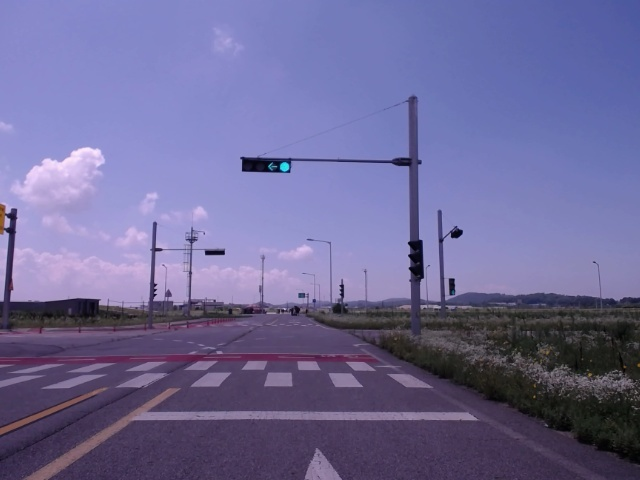all_green_4: (243, 157, 290, 171)
